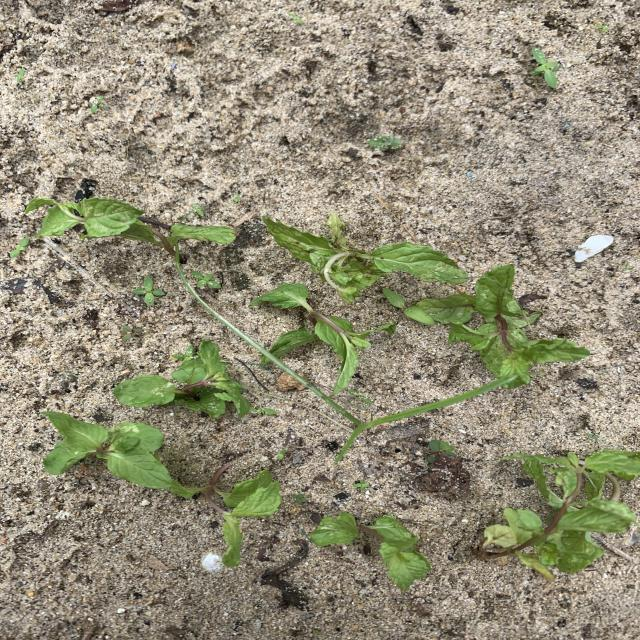crop: (478, 451, 638, 579), (263, 212, 467, 302), (441, 264, 587, 387), (252, 283, 379, 387), (26, 197, 235, 252), (172, 465, 279, 566), (115, 340, 251, 416), (42, 413, 178, 487), (309, 512, 429, 589)
weed: (208, 308, 505, 463), (382, 288, 436, 325), (530, 49, 558, 87), (133, 277, 163, 306), (427, 440, 457, 464), (191, 271, 221, 289), (369, 137, 401, 151), (122, 326, 148, 339), (11, 238, 28, 256), (249, 407, 279, 416), (89, 96, 104, 111), (354, 480, 369, 490), (288, 13, 303, 23), (190, 204, 203, 215), (293, 493, 307, 503), (14, 69, 23, 82), (277, 450, 286, 460), (586, 433, 598, 439)
